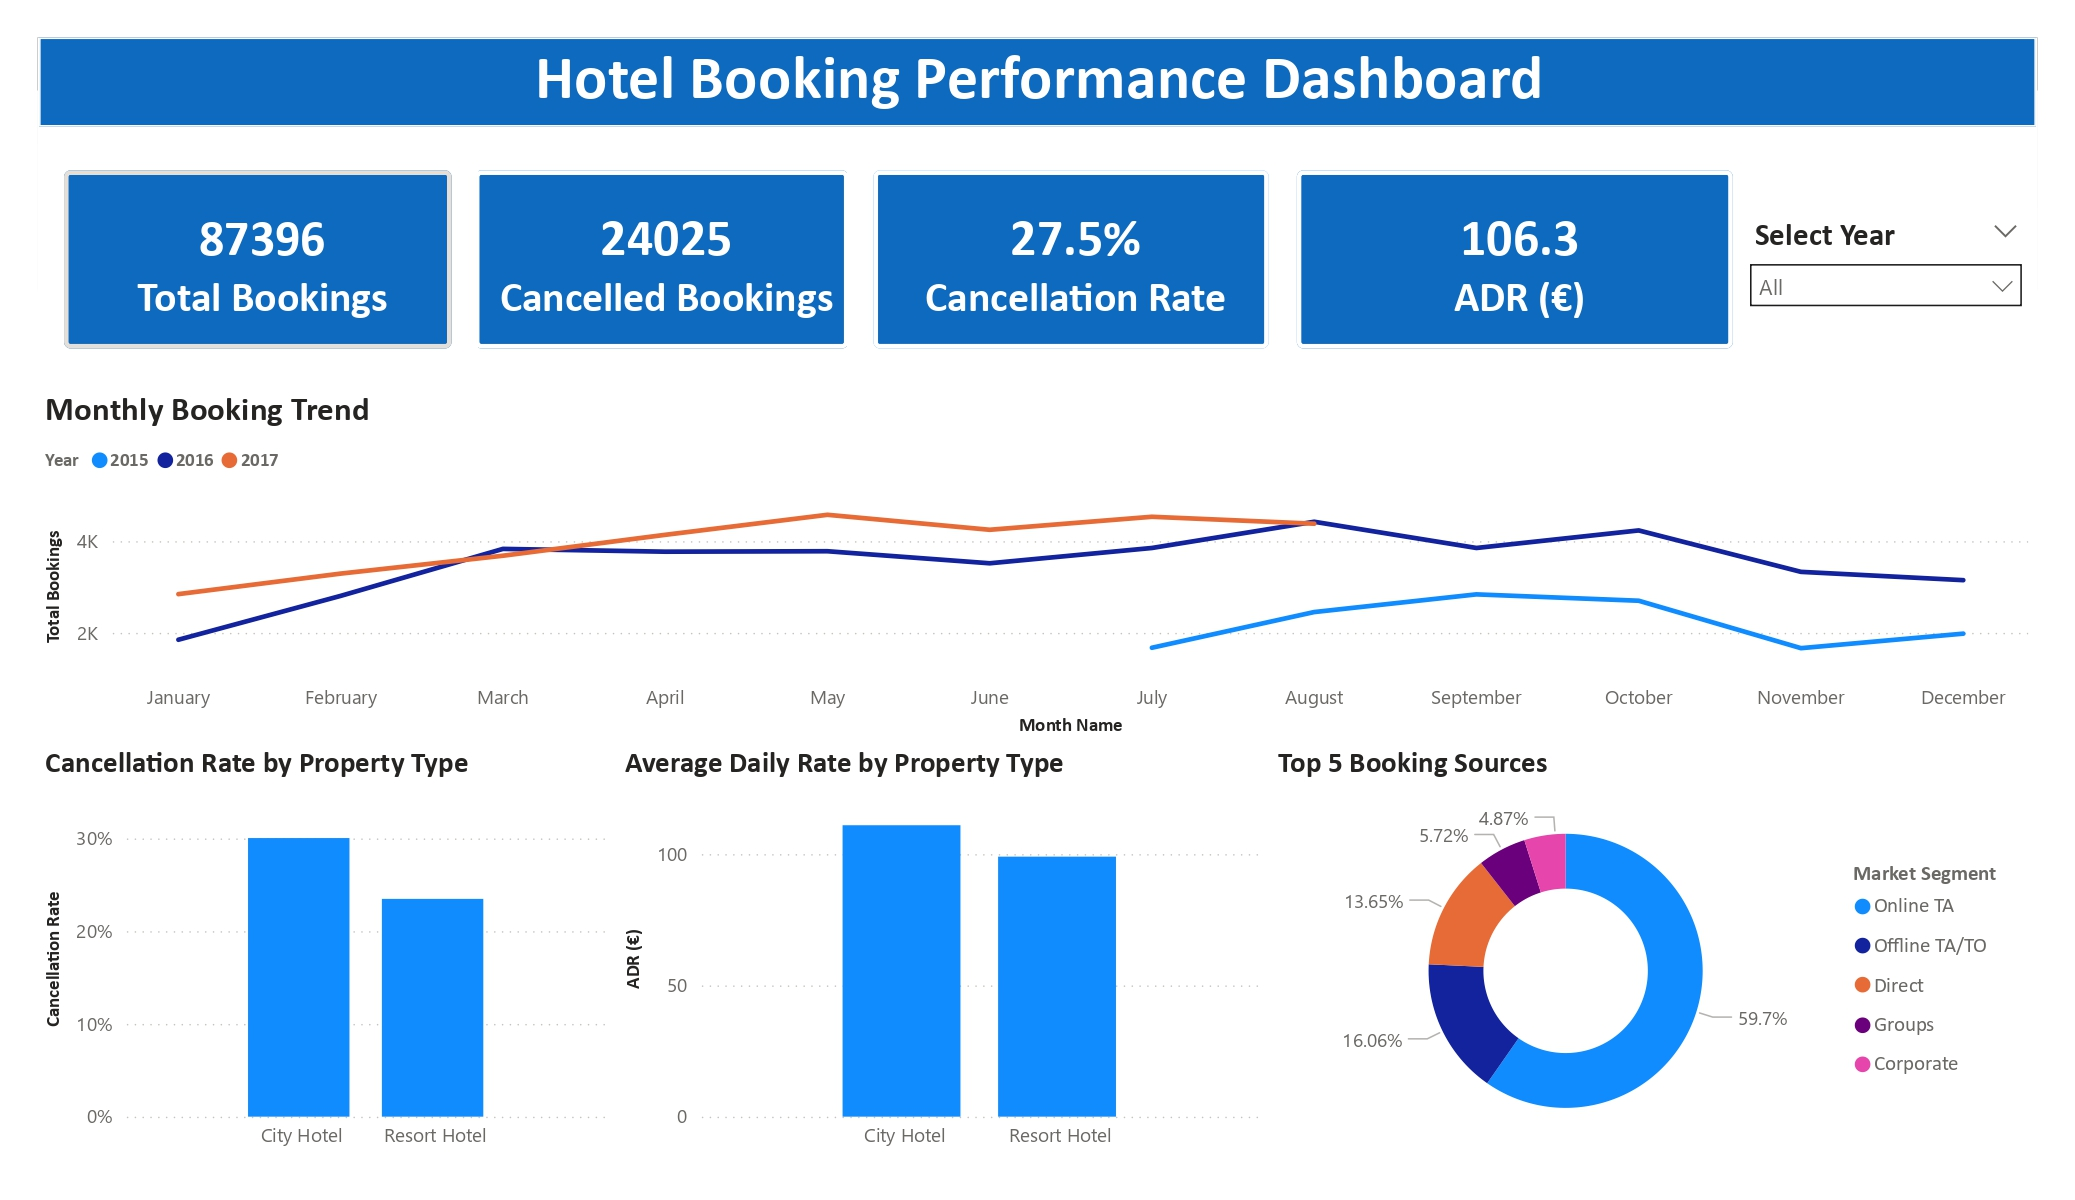

The page's visual inventory and layout, read from the dashboard file:
{"tool":"powerbi","page":{"name":"Page 1","canvas":[1280,720],"ordinal":0},"visuals":[{"type":"textbox","title":"Hotel Booking Performance Dashboard","box":[1.2,0,1277.8,56.8],"z":0},{"type":"cardVisual","fields":{"Data":["hotel_bookings.Cancelled Bookings"]},"box":[262.5,67.9,273.2,148.2],"z":1000},{"type":"cardVisual","fields":{"Data":["hotel_bookings.Cancellation Rate"]},"box":[517.9,67.9,287.5,148.2],"z":2000},{"type":"cardVisual","fields":{"Data":["hotel_bookings.Average ADR"]},"box":[789.3,67.9,312.5,148.2],"z":3000},{"type":"lineChart","title":"Monthly Booking Trend","fields":{"Category":["MonthSort.Month Name"],"Y":["hotel_bookings.Total Bookings"],"Series":["hotel_bookings.arrival_date_year"]},"box":[0,225,1278.6,226.8],"z":4000},{"type":"columnChart","title":"Cancellation Rate by Property Type","fields":{"Category":["hotel_bookings.hotel"],"Y":["hotel_bookings.Cancellation Rate"]},"box":[0,451.8,371.4,269.6],"z":5000},{"type":"columnChart","title":"Average Daily Rate by Property Type","fields":{"Category":["hotel_bookings.hotel"],"Y":["hotel_bookings.Average ADR (Euros)"]},"box":[371.4,451.8,417.9,269.6],"z":6000},{"type":"donutChart","title":"Top 5 Booking Sources","fields":{"Category":["hotel_bookings.market_segment"],"Y":["hotel_bookings.Total Bookings"]},"box":[789.3,451.8,489.3,267.9],"z":7000},{"type":"slicer","fields":{"Values":["hotel_bookings.arrival_date_year"]},"box":[1085.7,108.9,194.6,66.1],"z":8000},{"type":"cardVisual","fields":{"Data":["hotel_bookings.Total Bookings"]},"box":[0,67.9,282.1,148.2],"z":9000}]}

Visuals, with their boxes on the page's 1280x720 design canvas (x1, y1, x2, y2). These are canvas units, not pixel positions in the 2075x1200 screenshot, which may show the page scaled, cropped or inside an application window:
"Hotel Booking Performance Dashboard" textbox: region(1, 0, 1279, 57)
cardVisual - hotel_bookings.Cancelled Bookings: region(262, 68, 536, 216)
cardVisual - hotel_bookings.Cancellation Rate: region(518, 68, 805, 216)
cardVisual - hotel_bookings.Average ADR: region(789, 68, 1102, 216)
"Monthly Booking Trend" lineChart: region(0, 225, 1279, 452)
"Cancellation Rate by Property Type" columnChart: region(0, 452, 371, 721)
"Average Daily Rate by Property Type" columnChart: region(371, 452, 789, 721)
"Top 5 Booking Sources" donutChart: region(789, 452, 1279, 720)
slicer - hotel_bookings.arrival_date_year: region(1086, 109, 1280, 175)
cardVisual - hotel_bookings.Total Bookings: region(0, 68, 282, 216)
